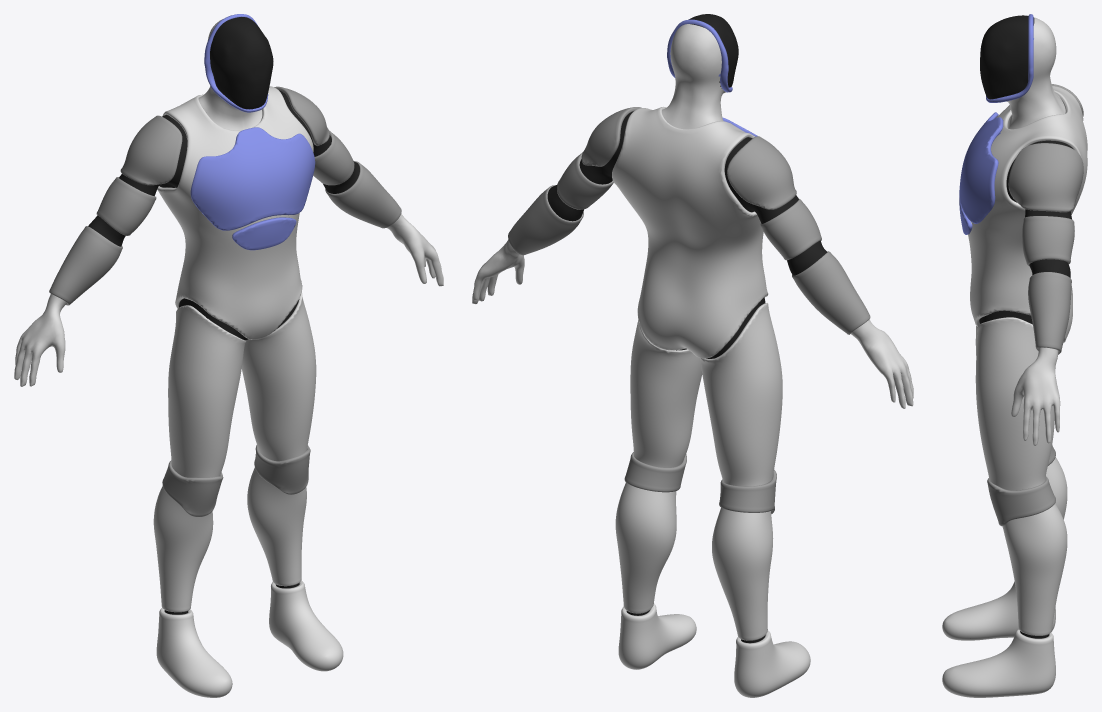
File: Zap 2.1.fbx
The picture shows the model from 3 angles, left to right: view 1: azimuth 30°, elevation 25°; view 2: azimuth 150°, elevation 25°; view 3: azimuth 270°, elevation 25°; orthographic projection. The views are drawn at different scales.
Visible parts, largest first — view 1: Zap; view 2: Zap; view 3: Zap.
Part boxes in pixels (x1,y1,x2,y2): Zap: [14, 14, 443, 697]; Zap: [472, 14, 913, 697]; Zap: [942, 14, 1087, 697].
Bounding box in the file's own units: 341 × 494 × 101.
